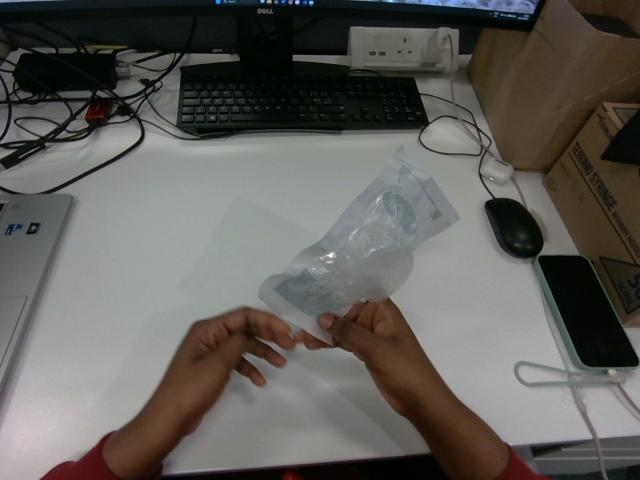gallipot: (259, 147, 458, 342)
